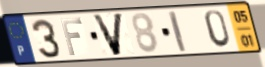0: (203, 9, 232, 50)
3: (30, 17, 62, 60)
8: (130, 11, 161, 56)
F: (58, 17, 84, 57)
I: (166, 9, 189, 54)
V: (90, 12, 126, 58)
